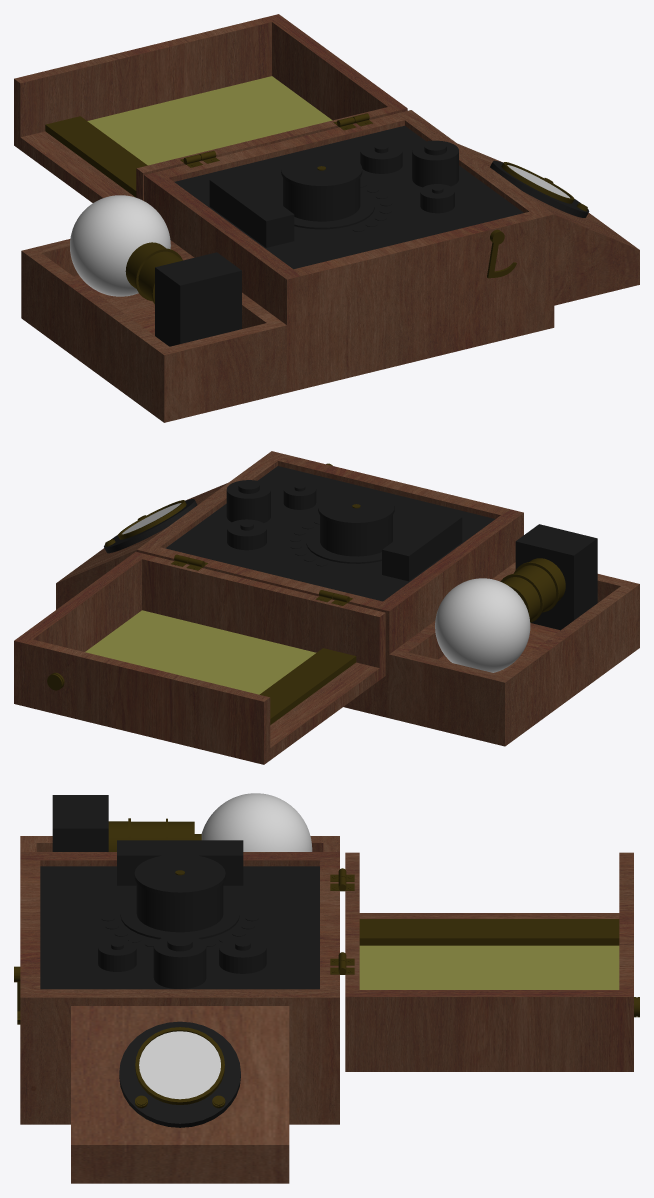
Rendered from radio.obj.
The picture shows the model from 3 angles, top to bottom: view 1: azimuth 30°, elevation 25°; view 2: azimuth 150°, elevation 25°; view 3: azimuth 270°, elevation 25°; orthographic projection. The views are drawn at different scales.
Visible parts, largest first — view 1: MainBase_Cube, BackLidBase_Cube.004, LightBase_Cube.001, LightBulb_Sphere, RightBase_Cube.002, MainDial_Cylinder.002, TopBoxThing_Cube.003, BackLidRuler_Cube.005, SmallDialCenter_Cylinder.003, LightSocket_Cylinder, SmallDialRight_Cylinder.008, RightDialBase_Circle (+3 smaller); view 2: BackLidBase_Cube.004, MainBase_Cube, LightBulb_Sphere, MainDial_Cylinder.002, LightBase_Cube.001, TopBoxThing_Cube.003, BackLidRuler_Cube.005, LightSocket_Cylinder, RightBase_Cube.002, SmallDialCenter_Cylinder.003, SmallDialRight_Cylinder.008, RightDialBase_Circle (+3 smaller); view 3: MainBase_Cube, BackLidBase_Cube.004, RightBase_Cube.002, MainDial_Cylinder.002, BackLidRuler_Cube.005, LightBulb_Sphere, RightDialBase_Circle, RightDialFace_Circle.002, TopBoxThing_Cube.003, LightBase_Cube.001, SmallDialCenter_Cylinder.003, LightSocket_Cylinder (+5 smaller).
Boxes of the visible parts, box(x1,y1,x2,y2) form: MainBase_Cube: box(21, 110, 554, 422); BackLidBase_Cube.004: box(14, 14, 407, 202); LightBase_Cube.001: box(155, 252, 241, 346); LightBulb_Sphere: box(70, 195, 170, 296); RightBase_Cube.002: box(458, 144, 639, 305); MainDial_Cylinder.002: box(272, 151, 374, 229); TopBoxThing_Cube.003: box(209, 173, 294, 247); BackLidRuler_Cube.005: box(45, 116, 147, 197); SmallDialCenter_Cylinder.003: box(412, 140, 458, 187); LightSocket_Cylinder: box(125, 242, 182, 304); SmallDialRight_Cylinder.008: box(360, 141, 402, 173); RightDialBase_Circle: box(490, 160, 589, 217); BackLidBase_Cube.004: box(14, 552, 385, 764); MainBase_Cube: box(137, 451, 639, 746); LightBulb_Sphere: box(435, 578, 530, 672); MainDial_Cylinder.002: box(306, 490, 403, 563); LightBase_Cube.001: box(515, 524, 597, 630); TopBoxThing_Cube.003: box(382, 510, 462, 581); BackLidRuler_Cube.005: box(259, 648, 356, 724); LightSocket_Cylinder: box(500, 558, 565, 622); RightBase_Cube.002: box(56, 483, 227, 609); SmallDialCenter_Cylinder.003: box(226, 480, 270, 522); SmallDialRight_Cylinder.008: box(227, 519, 266, 550); RightDialBase_Circle: box(104, 499, 197, 553); MainBase_Cube: box(20, 836, 339, 1124); BackLidBase_Cube.004: box(345, 852, 633, 1071); RightBase_Cube.002: box(71, 1006, 289, 1183); MainDial_Cylinder.002: box(120, 854, 239, 939); BackLidRuler_Cube.005: box(359, 919, 619, 945); LightBulb_Sphere: box(201, 793, 312, 851); RightDialBase_Circle: box(119, 1021, 240, 1127); RightDialFace_Circle.002: box(139, 1031, 220, 1099); TopBoxThing_Cube.003: box(117, 840, 243, 885); LightBase_Cube.001: box(52, 795, 108, 851); SmallDialCenter_Cylinder.003: box(153, 935, 206, 989); LightSocket_Cylinder: box(108, 818, 201, 851).
Bounding box in the file's own units: 4.03 × 1.13 × 3.92.
